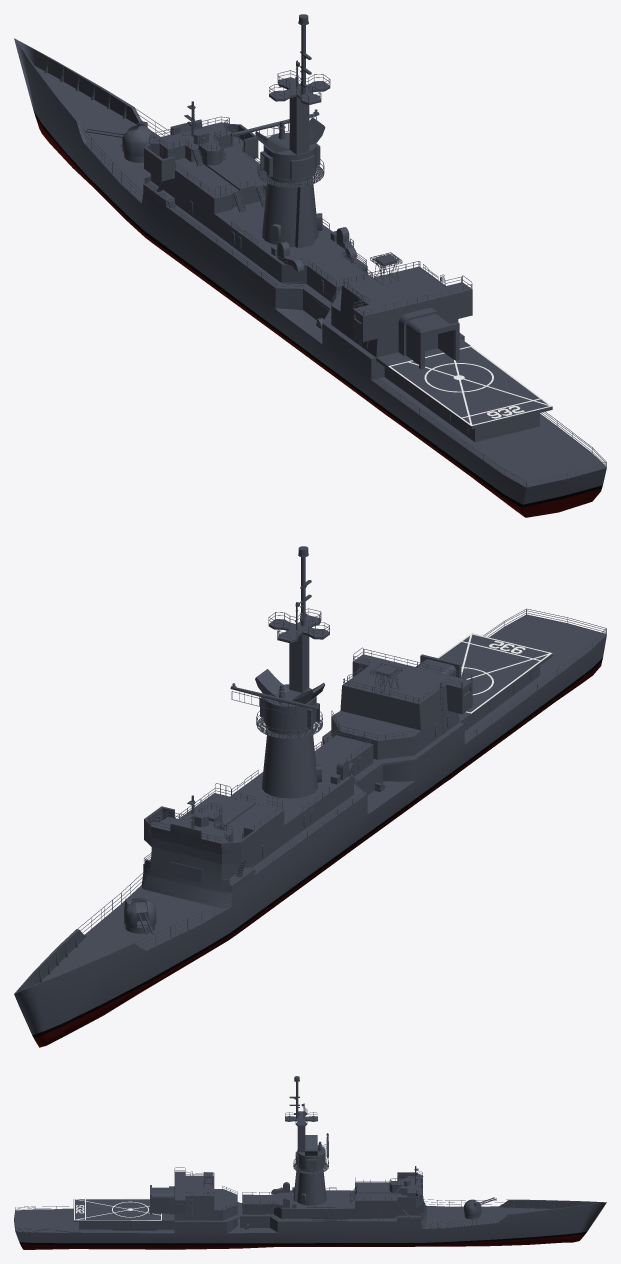
File: 濟陽艦.FBX
3 renders of one model, top to bottom at view 1: azimuth 30°, elevation 25°; view 2: azimuth 150°, elevation 25°; view 3: azimuth 270°, elevation 25°, orthographic. The views are drawn at different scales.
Parts seen in each view (by area): view 1: 濟陽艦; view 2: 濟陽艦; view 3: 濟陽艦.
Part boxes in pixels (<box>): 濟陽艦: <box>14,14,606,517</box>; 濟陽艦: <box>14,546,606,1047</box>; 濟陽艦: <box>14,1076,606,1249</box>.
Size of the model in its own units: 1535 by 4136 by 13432.
